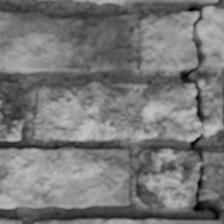brick: (0, 11, 128, 74), (0, 147, 129, 207), (0, 81, 23, 140), (33, 217, 221, 223), (81, 0, 215, 5), (0, 219, 20, 223), (0, 0, 20, 3)
broken_brick: (32, 79, 200, 143), (135, 148, 198, 210), (136, 11, 197, 73), (196, 76, 223, 137), (198, 5, 223, 68), (198, 146, 223, 205)
crack: (178, 2, 222, 221), (0, 108, 12, 126), (207, 0, 221, 6)
